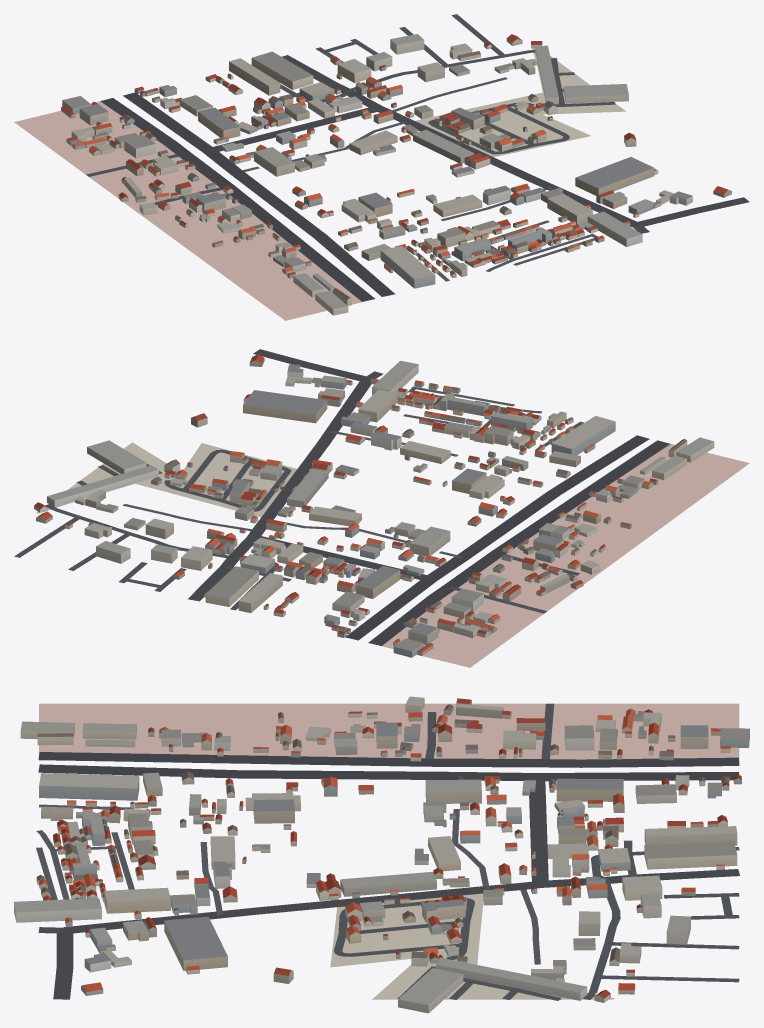
3 views of the same model, one above another, from view 1: azimuth 30°, elevation 25°; view 2: azimuth 150°, elevation 25°; view 3: azimuth 270°, elevation 25° (orthographic). The views are drawn at different scales.
Visible parts, largest first — view 1: buildings_walls, buildings_roofs, landuse, roads; view 2: buildings_walls, buildings_roofs, landuse, roads; view 3: buildings_roofs, buildings_walls, landuse, roads.
Part boxes in pixels (box(x1,y1,x2,y2)): buildings_walls: box(61, 38, 731, 315); buildings_roofs: box(61, 34, 727, 309); landuse: box(14, 43, 625, 320); roads: box(86, 14, 749, 301); buildings_walls: box(34, 358, 714, 657); buildings_roofs: box(34, 354, 713, 652); landuse: box(36, 442, 749, 667); roads: box(14, 349, 670, 645); buildings_roofs: box(14, 696, 749, 1005); buildings_walls: box(14, 698, 749, 1013); landuse: box(39, 703, 739, 999); roads: box(36, 703, 739, 1000).
Size of the model in its own units: 525 by 9.62 by 526.
